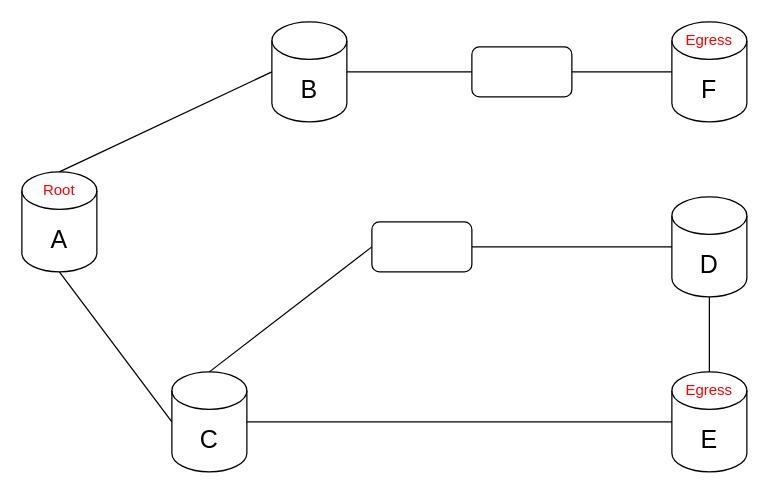
The diagram is 769 pixels wide and 494 high, and some of its shapes have lost their labels. The shapes that lost their labels are listed below. From the top down, each one's centre as x and y in pixels, then its label:
At (521,71): "hub".
At (421,246): "hub2".
